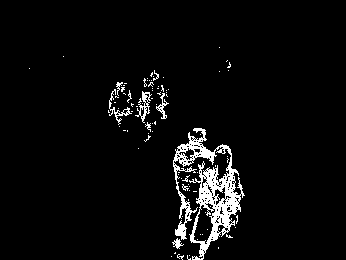person: (173, 128, 212, 241), (203, 142, 243, 252), (139, 72, 169, 143), (109, 80, 133, 129)
